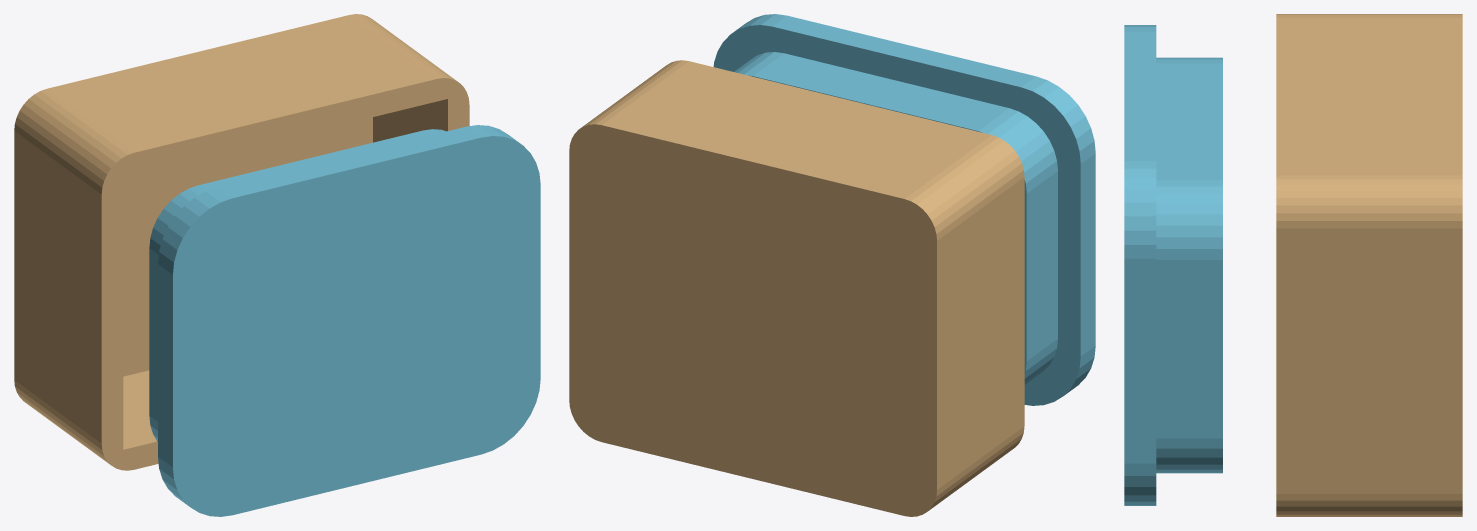
File: press_lid_demo.glb
3 views of the same model, side by side, from view 1: azimuth 30°, elevation 25°; view 2: azimuth 150°, elevation 25°; view 3: azimuth 270°, elevation 25° (orthographic). The views are drawn at different scales.
Visible parts, largest first — view 1: exploded_lid, open_box; view 2: open_box, exploded_lid; view 3: open_box, exploded_lid.
Part boxes in pixels (box(x1,y1,x2,y2)): exploded_lid: box(149, 125, 540, 516); open_box: box(14, 14, 469, 470); open_box: box(569, 60, 1024, 516); exploded_lid: box(713, 14, 1095, 405); open_box: box(1276, 14, 1462, 516); exploded_lid: box(1124, 25, 1222, 505).
Size of the model in its own units: 34 by 28 by 25.4.
